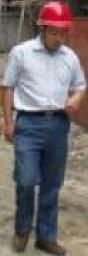boots: (35, 239, 66, 256), (13, 232, 29, 252)
hard-hat: (36, 1, 73, 29)
